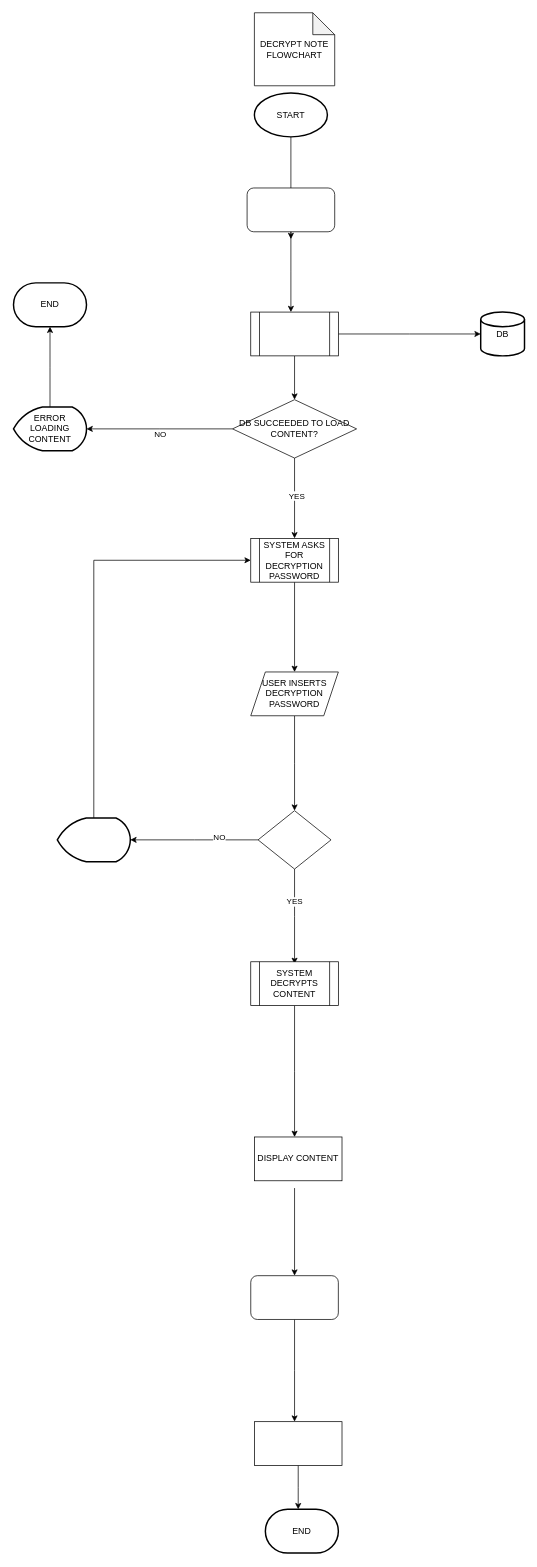
Image size: 537x1567. Some labels were removed from this diagram. The shapes that lost their labels are listed below. From the top down, each one's centre as x and y in pixels, then its label:
(x=290, y=209): USER SELECTS NOTE
(x=294, y=333): SYSTEM LOADS CONTENT FROM DB
(x=93, y=839): INCORRECT PASSWORD
(x=294, y=839): VALID PASSWORD?
(x=294, y=1297): USER SELECTS TO RETURN TO THE MAIN DASHBOARD
(x=298, y=1443): RETURN TO THE MAIN DASHBOARD
